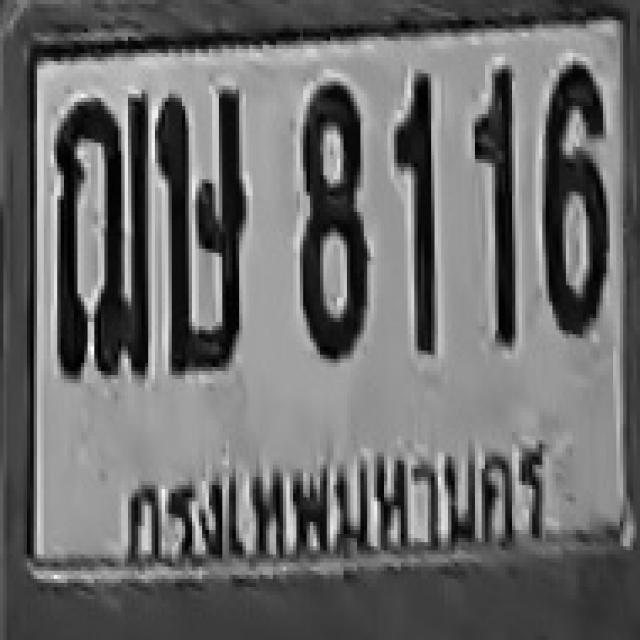1: (472, 69, 516, 310), (472, 65, 516, 294), (392, 69, 433, 302)
21ChorChoe: (52, 96, 150, 377), (52, 126, 150, 375)
48SorRueSi: (155, 88, 246, 369)
6: (542, 61, 606, 334)
8: (298, 80, 366, 352)
Bangkok: (118, 434, 556, 575)
